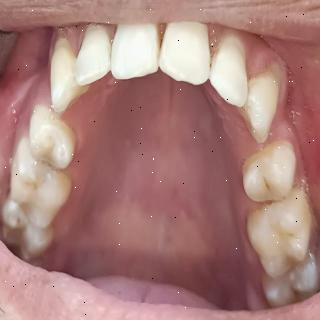UL1BC_decay: (242, 140, 296, 201)
UL1M_healthy: (261, 253, 318, 307)
UL2BC_healthy: (246, 187, 311, 276)
ULCI_healthy: (159, 22, 210, 85)
ULC_healthy: (242, 72, 278, 143)
ULLI_healthy: (209, 36, 248, 108)
UR1BC_healthy: (30, 105, 75, 169)
UR1M_healthy: (2, 194, 53, 258)
UR2BC_healthy: (10, 137, 71, 226)
URCI_healthy: (112, 22, 158, 79)
URC_healthy: (51, 38, 88, 113)
URLI_healthy: (77, 24, 111, 85)
